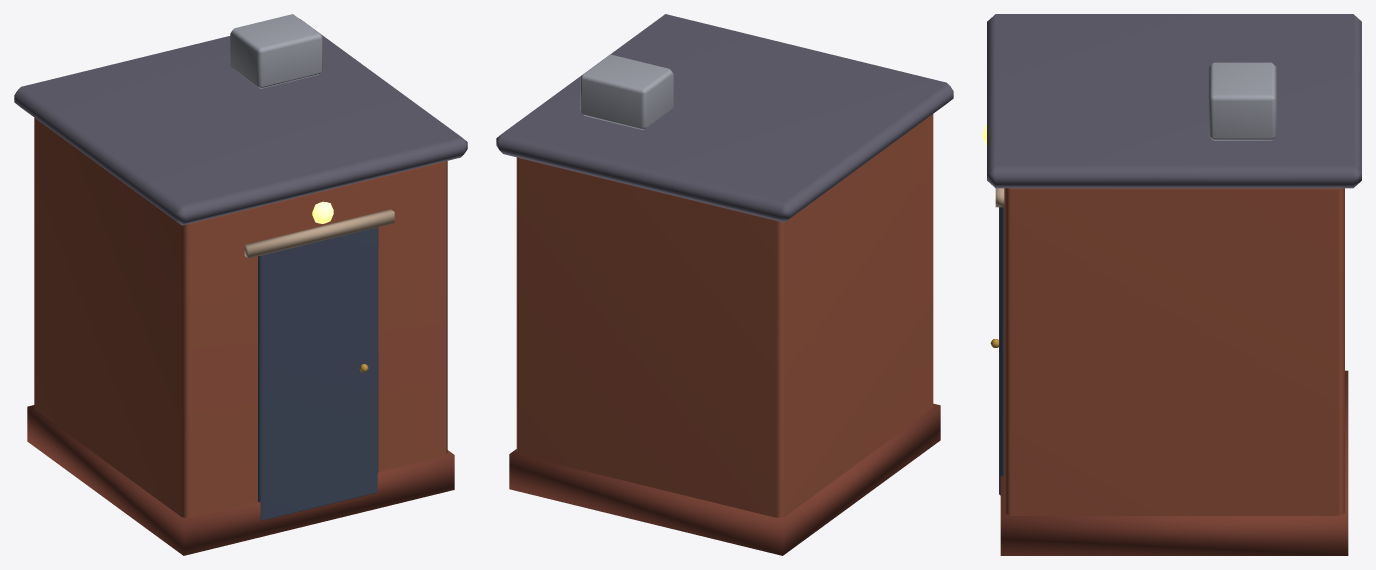
File: stair_hut.glb
3 views of the same model, side by side, from view 1: azimuth 30°, elevation 25°; view 2: azimuth 150°, elevation 25°; view 3: azimuth 270°, elevation 25° (orthographic). The views are drawn at different scales.
Visible parts, largest first — view 1: stair_hut, door; view 2: stair_hut; view 3: stair_hut, door.
Part boxes in pixels (left/top/right/bottom): stair_hut: left=14, top=14, right=467, bottom=555; door: left=258, top=227, right=378, bottom=520; stair_hut: left=496, top=14, right=953, bottom=555; stair_hut: left=982, top=14, right=1361, bottom=555; door: left=990, top=207, right=1004, bottom=495.
Bounding box in the file's own units: 2.2 × 2.85 × 2.23.
